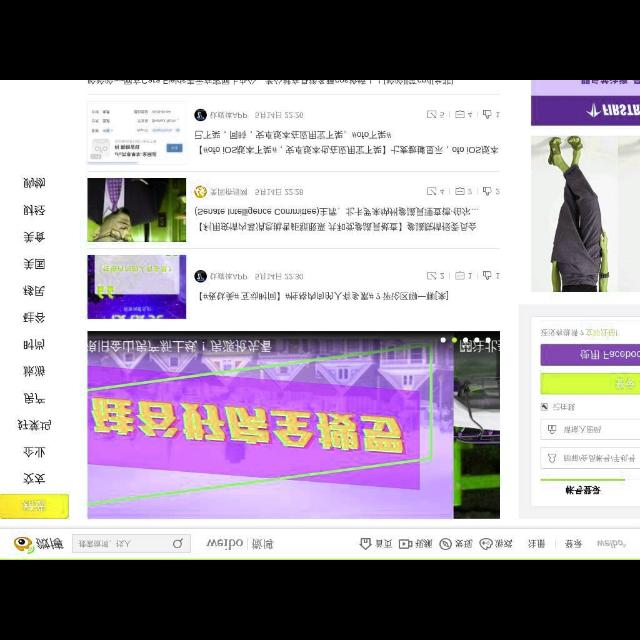checkbox: (540, 404, 548, 411)
icon: (356, 536, 372, 550), (397, 538, 413, 550), (439, 538, 451, 550), (480, 538, 492, 550), (173, 538, 185, 548), (547, 452, 557, 464), (548, 424, 558, 436), (425, 186, 437, 196), (427, 272, 438, 282), (455, 270, 465, 280), (483, 186, 493, 196), (455, 110, 465, 120), (454, 187, 464, 196), (428, 110, 437, 120), (482, 109, 492, 118), (482, 272, 492, 280)
image: (88, 332, 500, 518), (530, 133, 640, 291), (86, 254, 188, 320), (88, 178, 185, 242), (87, 102, 187, 164), (532, 80, 638, 126), (12, 538, 64, 554), (595, 536, 627, 550), (195, 184, 208, 200), (193, 108, 207, 122), (195, 270, 207, 282)
input: (72, 534, 190, 554), (540, 448, 638, 468), (541, 419, 639, 439)
pageindicator: (440, 336, 492, 344)
panel: (532, 317, 640, 507)
text: (193, 128, 499, 156), (197, 220, 478, 233), (198, 288, 450, 302), (193, 206, 482, 218), (88, 338, 272, 352), (86, 81, 460, 85), (577, 347, 639, 361), (561, 452, 639, 463), (539, 328, 619, 338), (76, 538, 132, 548), (256, 186, 304, 197), (17, 418, 53, 432), (254, 270, 304, 280), (255, 110, 305, 120), (562, 486, 602, 498), (208, 186, 248, 198), (206, 538, 244, 550), (562, 425, 604, 435), (21, 364, 49, 378), (22, 390, 46, 406), (210, 272, 248, 282), (210, 110, 248, 120), (21, 472, 47, 486), (21, 336, 47, 350), (21, 285, 47, 297), (20, 204, 46, 216), (613, 378, 635, 392), (22, 499, 46, 511), (22, 447, 46, 459), (22, 312, 46, 324), (22, 259, 46, 271), (22, 177, 44, 190), (550, 402, 578, 412), (24, 230, 46, 242), (250, 539, 272, 551), (492, 538, 514, 550), (415, 537, 433, 549), (452, 538, 472, 548), (374, 538, 392, 548), (564, 539, 582, 549), (524, 539, 546, 547), (438, 272, 446, 280), (438, 188, 446, 196), (494, 272, 501, 280), (494, 188, 502, 195), (466, 272, 472, 280), (439, 111, 445, 119), (495, 111, 501, 119), (466, 188, 472, 195), (467, 112, 473, 118)
textbutton: (0, 494, 70, 520)
toolbar: (1, 530, 639, 558)
